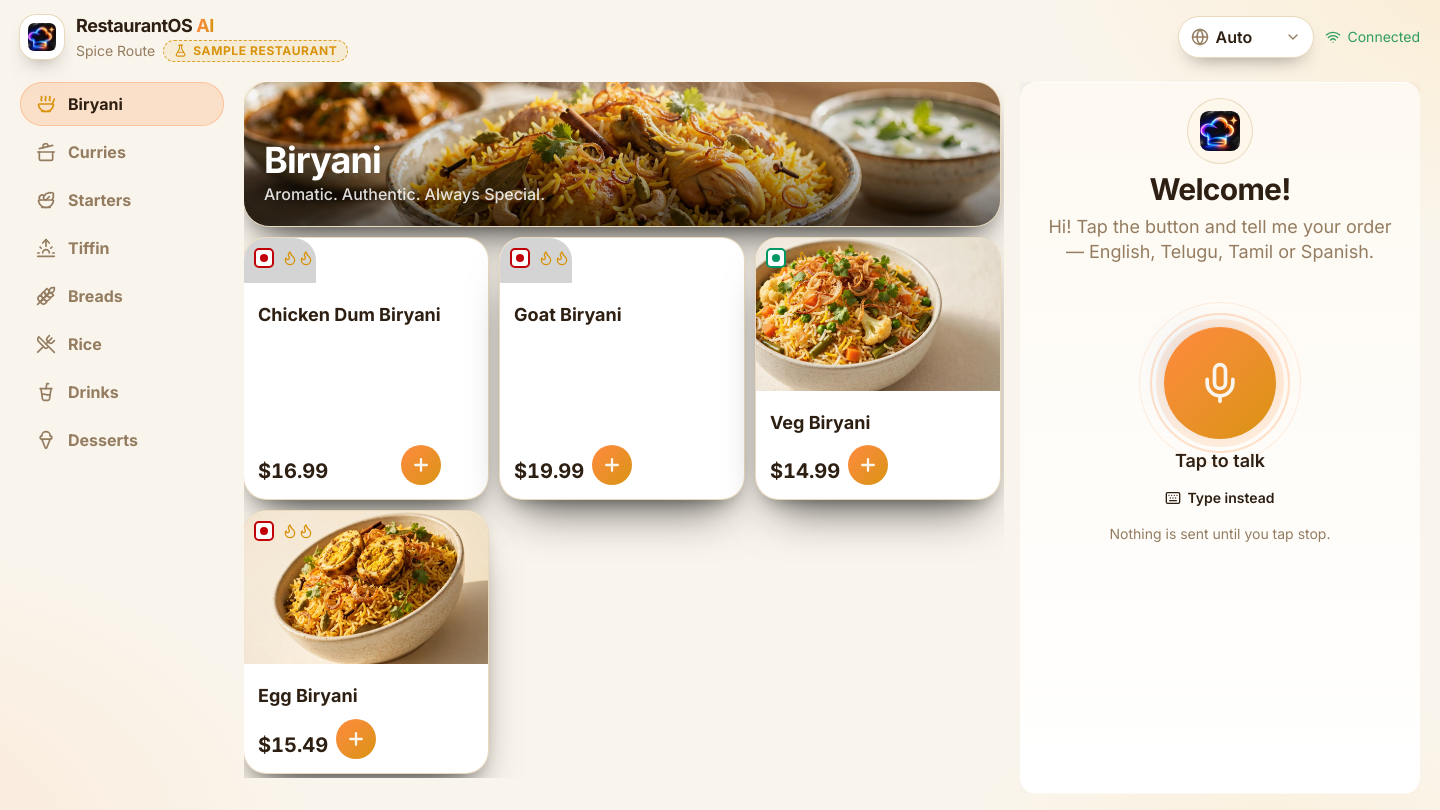
a server error ends the turn and says why; a session gone behind 1006 restarts fresh by itself
The width and height of the screenshot is (1440, 810).
Click the button "Starters".
click(122, 200)  # box [20, 178, 224, 222]
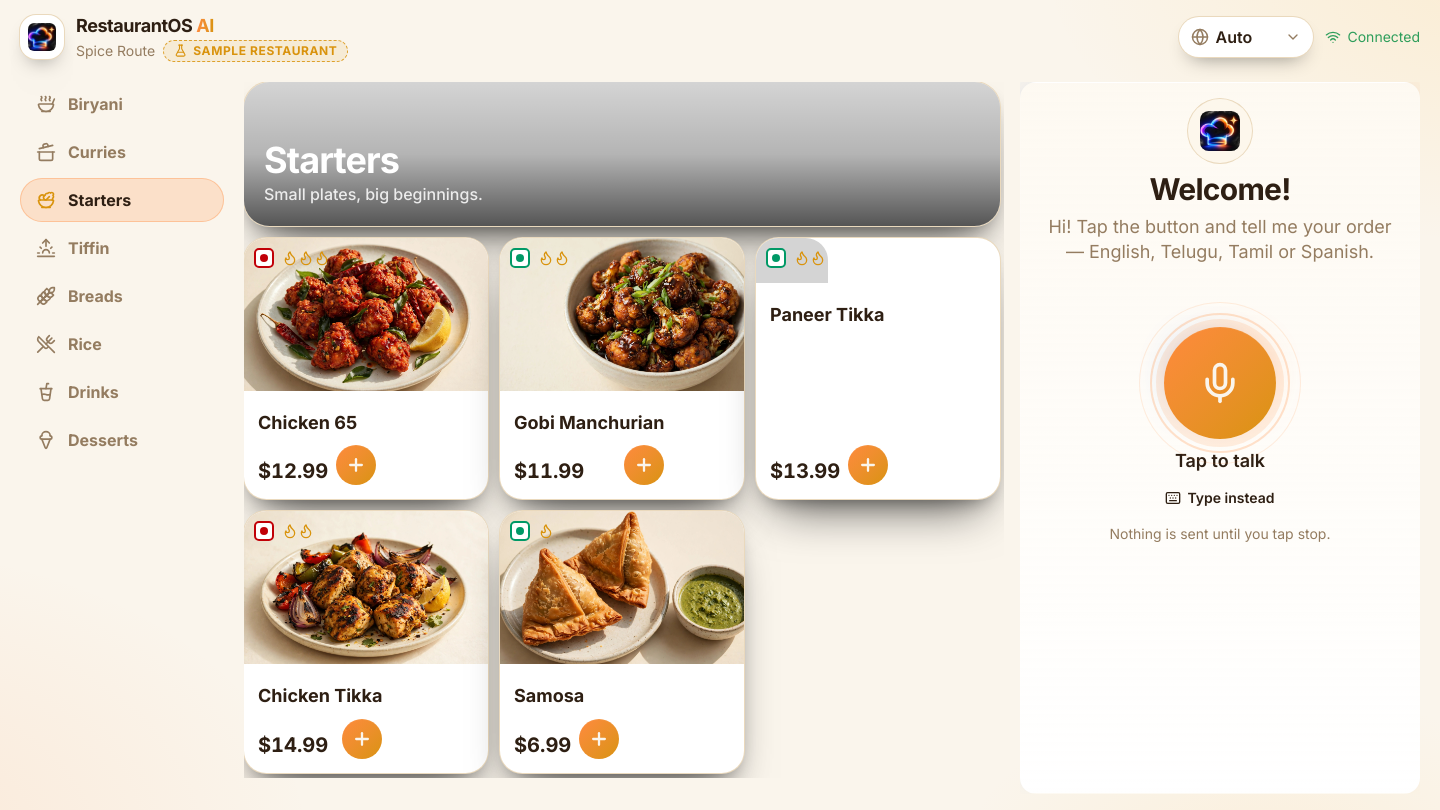
Click the button with aria-label "Add Samosa, $6.99".
click(622, 642)  # box [500, 511, 744, 773]
(page scrolled)
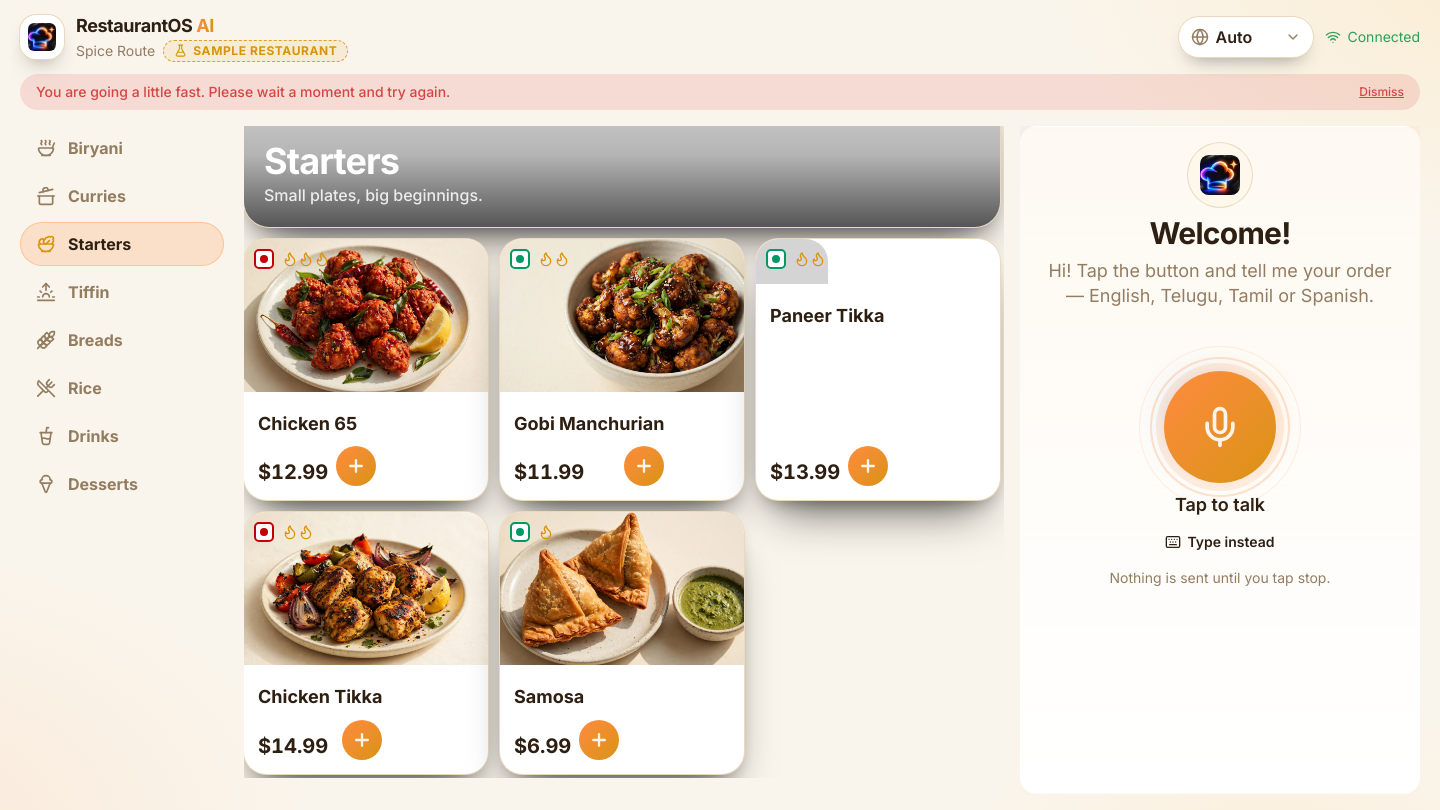
Expected: the message shows "going a little fast", [36, 83, 450, 100]
Click the button with aria-label "Add Samosa, $6.99".
click(622, 643)  # box [500, 512, 744, 774]
Wait 63500 ms
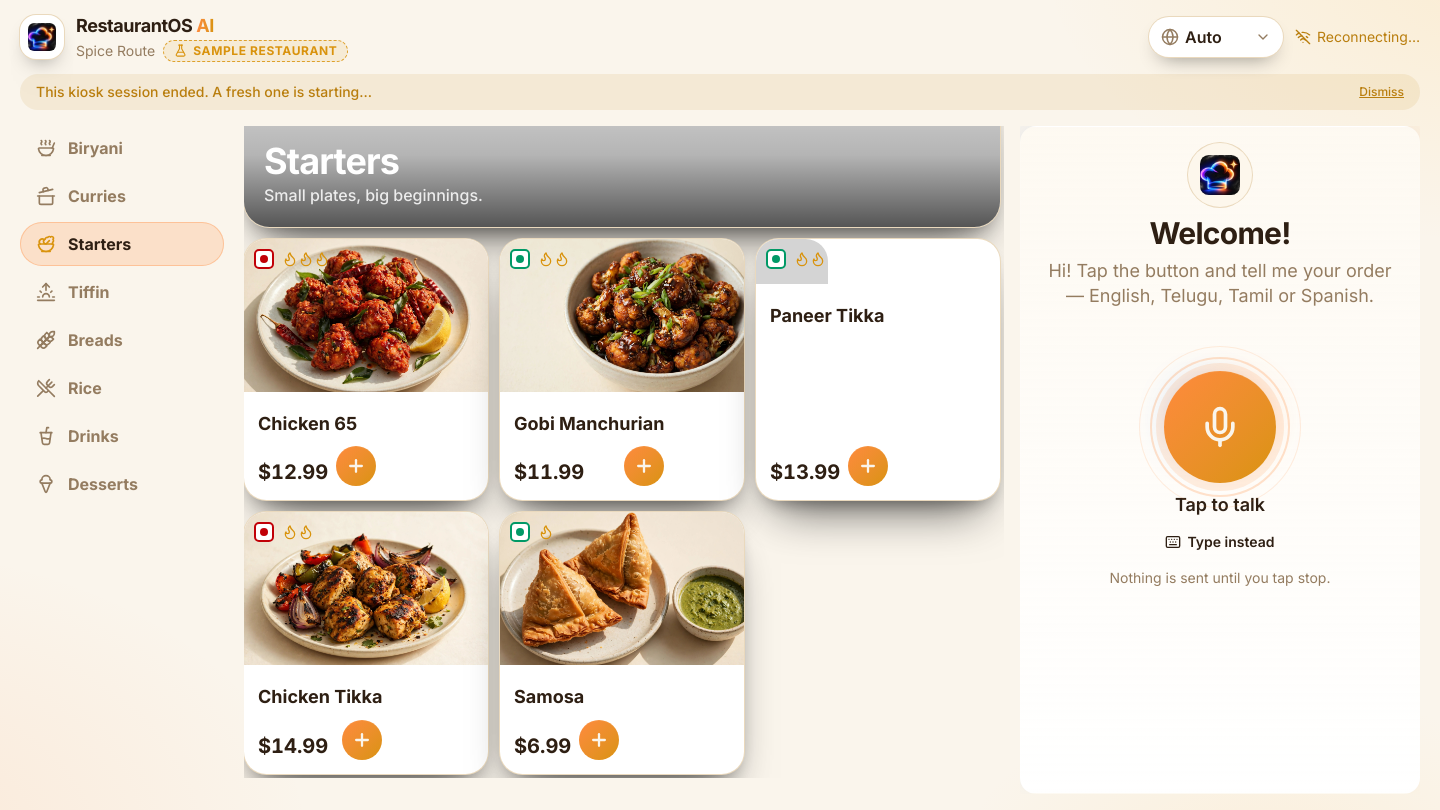
Expected: the text "This kiosk session ended. A fresh one is starting…" is shown, [36, 82, 372, 102]
